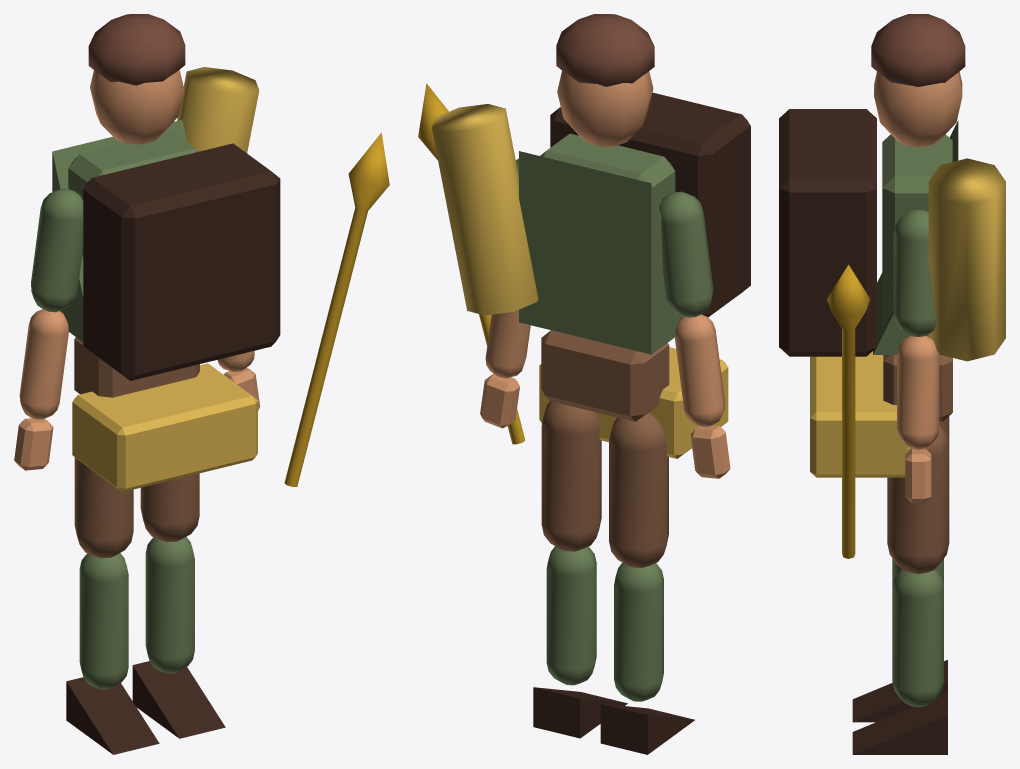
The model's file is adventurer.rustic.glb.
The picture shows the model from 3 angles, left to right: view 1: azimuth 30°, elevation 25°; view 2: azimuth 150°, elevation 25°; view 3: azimuth 270°, elevation 25°; orthographic projection.
Visible parts, largest first — view 1: accessory.body, accessory.waist, shin.right, shin.left, accessory.main-hand, hair, accessory.back, upper-arm.left, head, foot.left, foot.right, thigh.left (+6 smaller); view 2: tunic, accessory.back, accessory.body, pelvis, thigh.left, thigh.right, shin.right, shin.left, hair, upper-arm.left, head, forearm.left (+8 smaller); view 3: accessory.body, accessory.back, accessory.waist, shin.right, thigh.right, hair, torso, accessory.main-hand, head, upper-arm.right, forearm.right, foot.right (+4 smaller).
Boxes of the visible parts, x1=… form: accessory.body: x1=83, y1=143, x2=280, y2=380; accessory.waist: x1=72, y1=363, x2=257, y2=491; shin.right: x1=145, y1=537, x2=194, y2=673; shin.left: x1=79, y1=553, x2=128, y2=689; accessory.main-hand: x1=284, y1=132, x2=389, y2=486; hair: x1=88, y1=14, x2=185, y2=85; accessory.back: x1=177, y1=67, x2=259, y2=152; upper-arm.left: x1=31, y1=188, x2=83, y2=312; head: x1=90, y1=70, x2=184, y2=144; foot.left: x1=66, y1=677, x2=159, y2=754; foot.right: x1=132, y1=661, x2=225, y2=738; thigh.left: x1=74, y1=457, x2=133, y2=558; tunic: x1=519, y1=151, x2=683, y2=354; accessory.back: x1=431, y1=104, x2=538, y2=315; accessory.body: x1=550, y1=92, x2=750, y2=317; pelvis: x1=541, y1=330, x2=669, y2=421; thigh.left: x1=609, y1=412, x2=668, y2=567; thigh.right: x1=541, y1=401, x2=601, y2=551; shin.right: x1=546, y1=546, x2=596, y2=685; shin.left: x1=614, y1=562, x2=663, y2=701; hair: x1=556, y1=14, x2=654, y2=86; upper-arm.left: x1=659, y1=191, x2=713, y2=317; head: x1=557, y1=71, x2=653, y2=146; forearm.left: x1=675, y1=314, x2=724, y2=426; accessory.body: x1=779, y1=109, x2=876, y2=356; accessory.back: x1=928, y1=158, x2=1005, y2=361; accessory.waist: x1=810, y1=351, x2=910, y2=477; shin.right: x1=892, y1=569, x2=943, y2=707; thigh.right: x1=887, y1=425, x2=949, y2=574; hair: x1=871, y1=14, x2=965, y2=86; torso: x1=882, y1=134, x2=952, y2=324; accessory.main-hand: x1=827, y1=264, x2=870, y2=558; head: x1=874, y1=71, x2=962, y2=146; upper-arm.right: x1=893, y1=209, x2=935, y2=336; forearm.right: x1=897, y1=335, x2=939, y2=449; foot.right: x1=852, y1=692, x2=947, y2=754.
Size of the model in its own units: 1.53 by 3.03 by 0.88.
